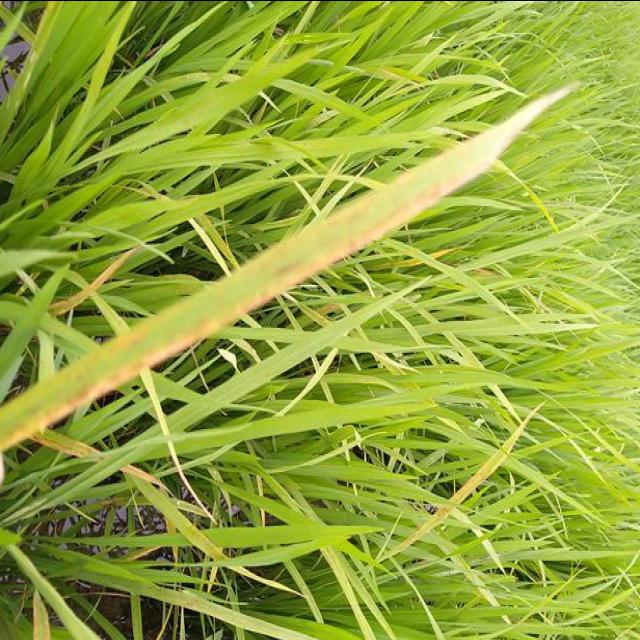Leaf Blight: (0, 83, 572, 453), (391, 405, 541, 555)
